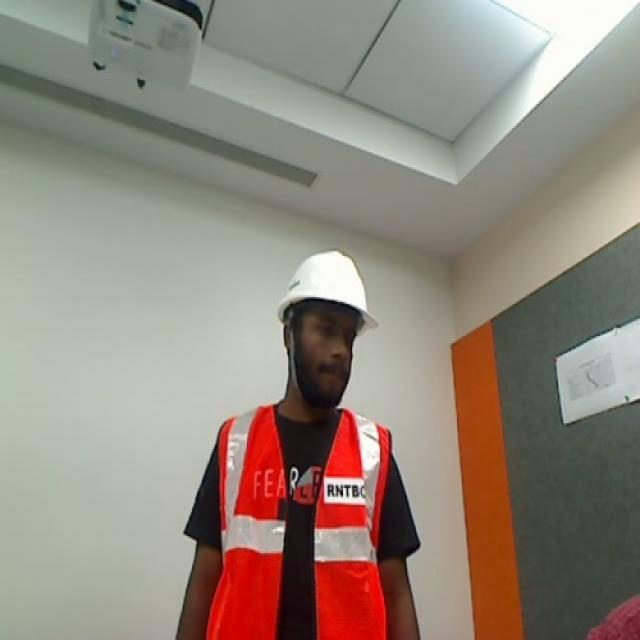safety_helmet: (212, 408, 390, 640)
